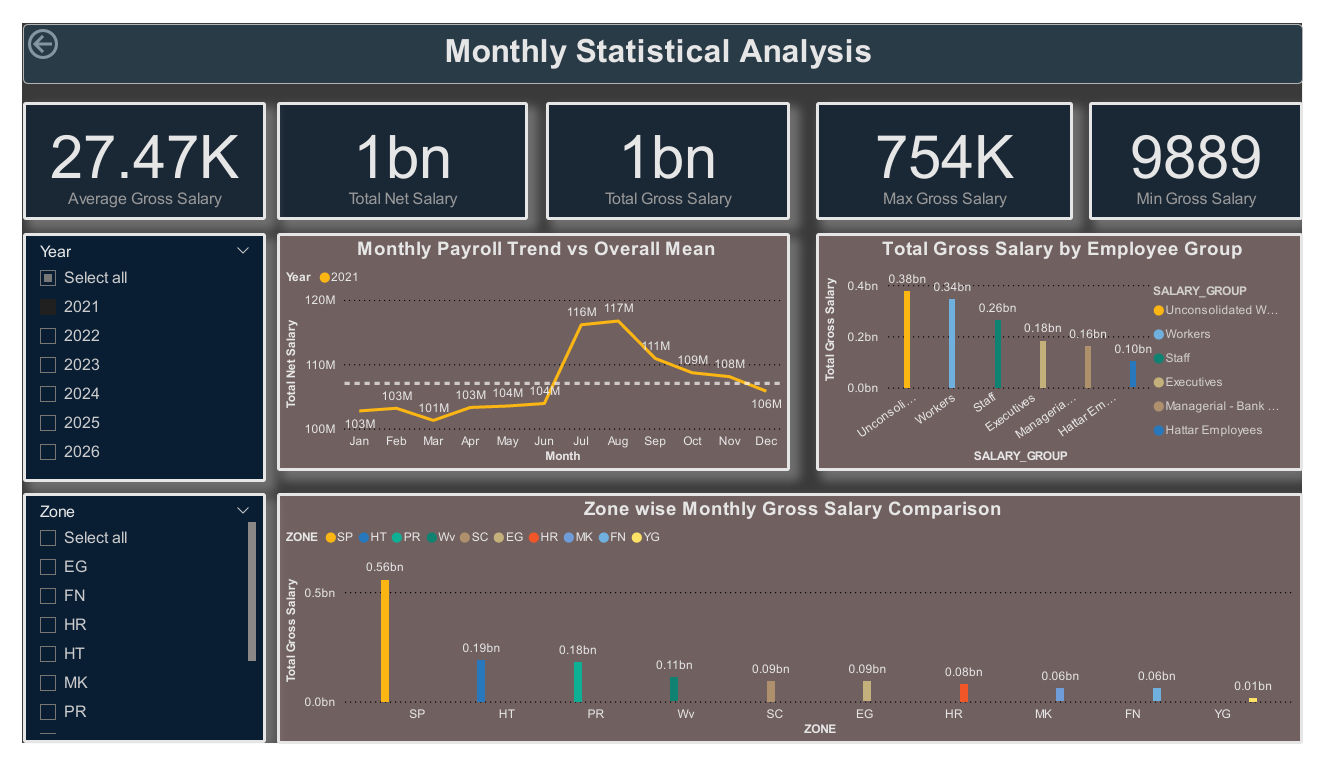

What the dashboard file says about the page in this screenshot:
{"tool":"powerbi","page":{"name":"Monthly Statistical Analysis","canvas":[1280,720],"ordinal":2},"visuals":[{"type":"card","fields":{"Values":["AI_PAYROLL_DATA.Total Net Salary"]},"box":[253.9,78.2,251.1,118],"z":0},{"type":"card","fields":{"Values":["AI_PAYROLL_DATA.Total Gross Salary"]},"box":[522.8,78.2,244.3,118],"z":1000},{"type":"card","fields":{"Values":["AI_PAYROLL_DATA.Max Net Salary"]},"box":[793.1,78.2,256.6,118],"z":2000},{"type":"actionButton","box":[0,0,100,40],"z":3000},{"type":"slicer","fields":{"Values":["DateTable.Year"]},"box":[0,208.6,242.9,249.7],"z":4000},{"type":"lineChart","title":"Monthly Payroll Trend vs Overall Mean","fields":{"Category":["DateTable.Month"],"Y":["AI_PAYROLL_DATA.Total Net Salary"],"Series":["DateTable.Year"]},"box":[253.9,208.6,513.2,238.8],"z":5000},{"type":"card","fields":{"Values":["AI_PAYROLL_DATA.Min Net Salary"]},"box":[1066.2,78.2,214.1,118],"z":6000},{"type":"card","fields":{"Values":["AI_PAYROLL_DATA.Average Gross Salary"]},"box":[0,78.2,242.9,118],"z":7000},{"type":"clusteredColumnChart","title":"Zone wise Monthly Gross Salary Comparison","fields":{"Category":["AI_PAYROLL_DATA.ZONE"],"Series":["AI_PAYROLL_DATA.ZONE"],"Y":["AI_PAYROLL_DATA.Total Gross Salary"]},"box":[253.9,469.3,1026.4,251.1],"z":8000},{"type":"textbox","box":[0,0,1280.3,60.4],"z":9000},{"type":"clusteredColumnChart","title":"Total Gross Salary by Employee Group","fields":{"Category":["AI_PAYROLL_DATA.SALARY_GROUP"],"Series":["AI_PAYROLL_DATA.SALARY_GROUP"],"Y":["AI_PAYROLL_DATA.Total Gross Salary"]},"box":[793.1,208.6,487.1,238.8],"z":10000},{"type":"slicer","fields":{"Values":["AI_PAYROLL_DATA.ZONE"]},"box":[0,469.3,242.9,249.7],"z":11000}]}

Visuals, with their boxes on the page's 1280x720 design canvas (x1, y1, x2, y2). These are canvas units, not pixel positions in the 1322x767 screenshot, which may show the page scaled, cropped or inside an application window:
card - AI_PAYROLL_DATA.Total Net Salary: [left=254, top=78, right=505, bottom=196]
card - AI_PAYROLL_DATA.Total Gross Salary: [left=523, top=78, right=767, bottom=196]
card - AI_PAYROLL_DATA.Max Net Salary: [left=793, top=78, right=1050, bottom=196]
actionButton: [left=0, top=0, right=100, bottom=40]
slicer - DateTable.Year: [left=0, top=209, right=243, bottom=458]
"Monthly Payroll Trend vs Overall Mean" lineChart: [left=254, top=209, right=767, bottom=447]
card - AI_PAYROLL_DATA.Min Net Salary: [left=1066, top=78, right=1280, bottom=196]
card - AI_PAYROLL_DATA.Average Gross Salary: [left=0, top=78, right=243, bottom=196]
"Zone wise Monthly Gross Salary Comparison" clusteredColumnChart: [left=254, top=469, right=1280, bottom=720]
textbox: [left=0, top=0, right=1280, bottom=60]
"Total Gross Salary by Employee Group" clusteredColumnChart: [left=793, top=209, right=1280, bottom=447]
slicer - AI_PAYROLL_DATA.ZONE: [left=0, top=469, right=243, bottom=719]
